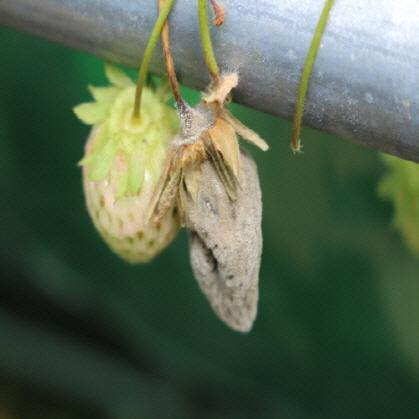Gray Mold: (152, 100, 270, 336)
